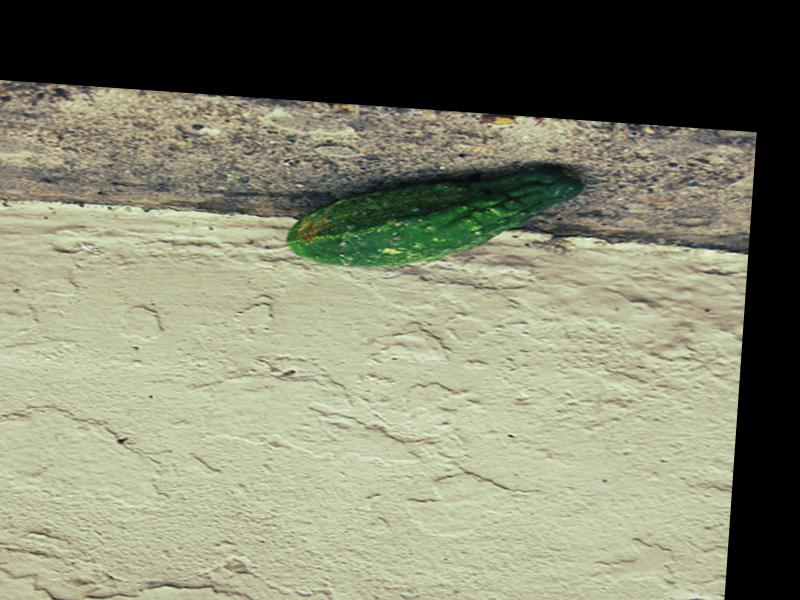Cucumber: (285, 150, 580, 282)
